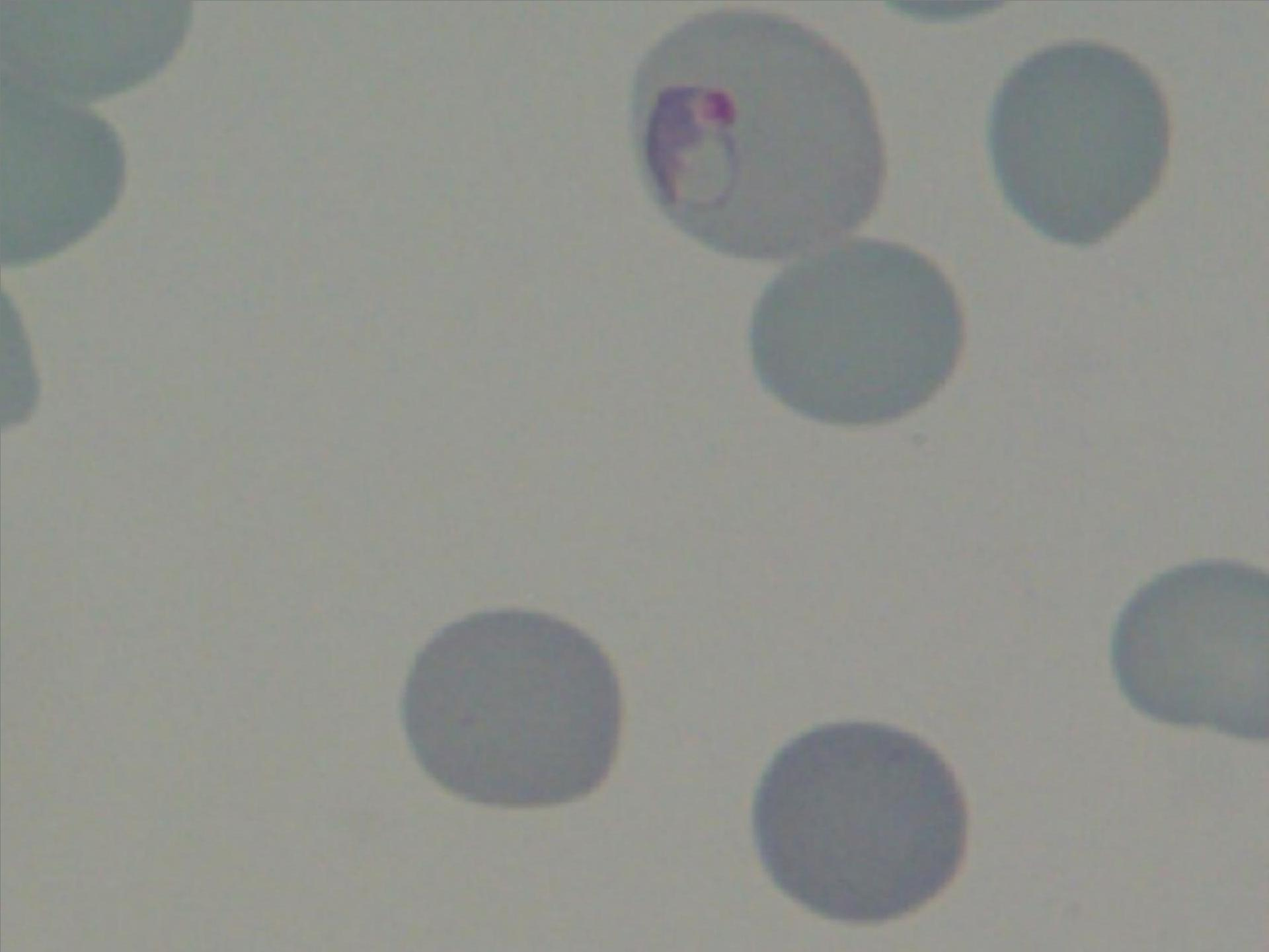Infected: (630, 7, 884, 253)
Uninfected: (405, 606, 621, 812), (758, 722, 969, 920), (753, 245, 961, 425), (989, 45, 1168, 244), (1110, 562, 1269, 746)
